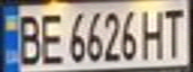2: (103, 7, 124, 62)
6: (63, 8, 87, 64), (118, 6, 142, 61), (84, 7, 106, 63)
B: (12, 9, 45, 66)
E: (36, 8, 66, 65)
H: (139, 4, 169, 61)
T: (157, 3, 190, 60)
